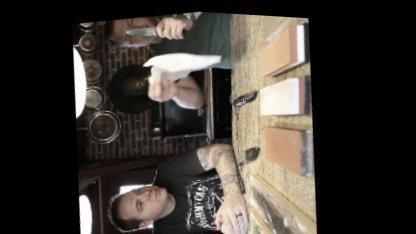knife: (119, 11, 176, 45)
